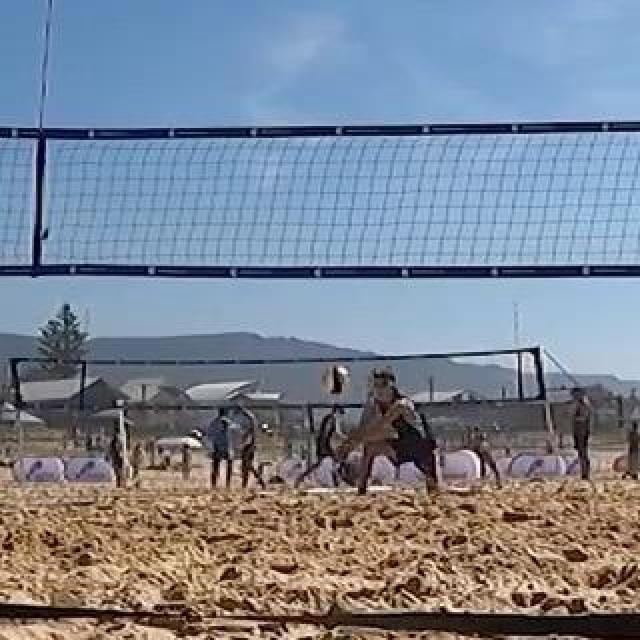volleyball: (321, 366, 351, 394)
